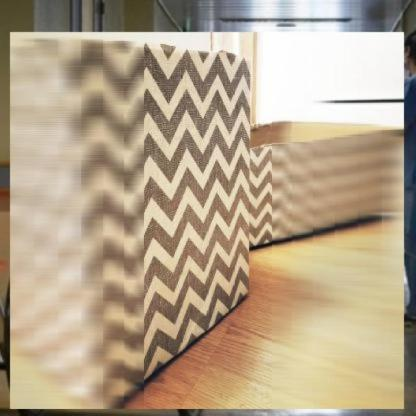-: (5, 26, 411, 416)
